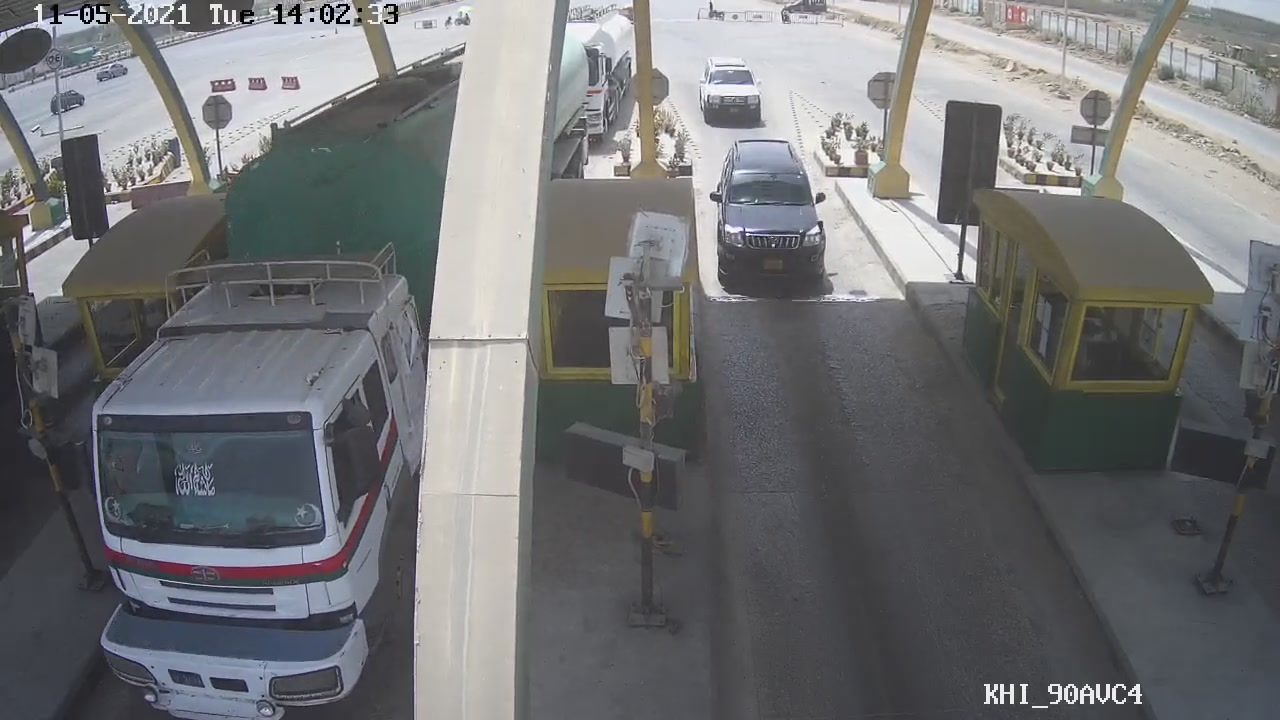F1: (703, 133, 848, 299)
